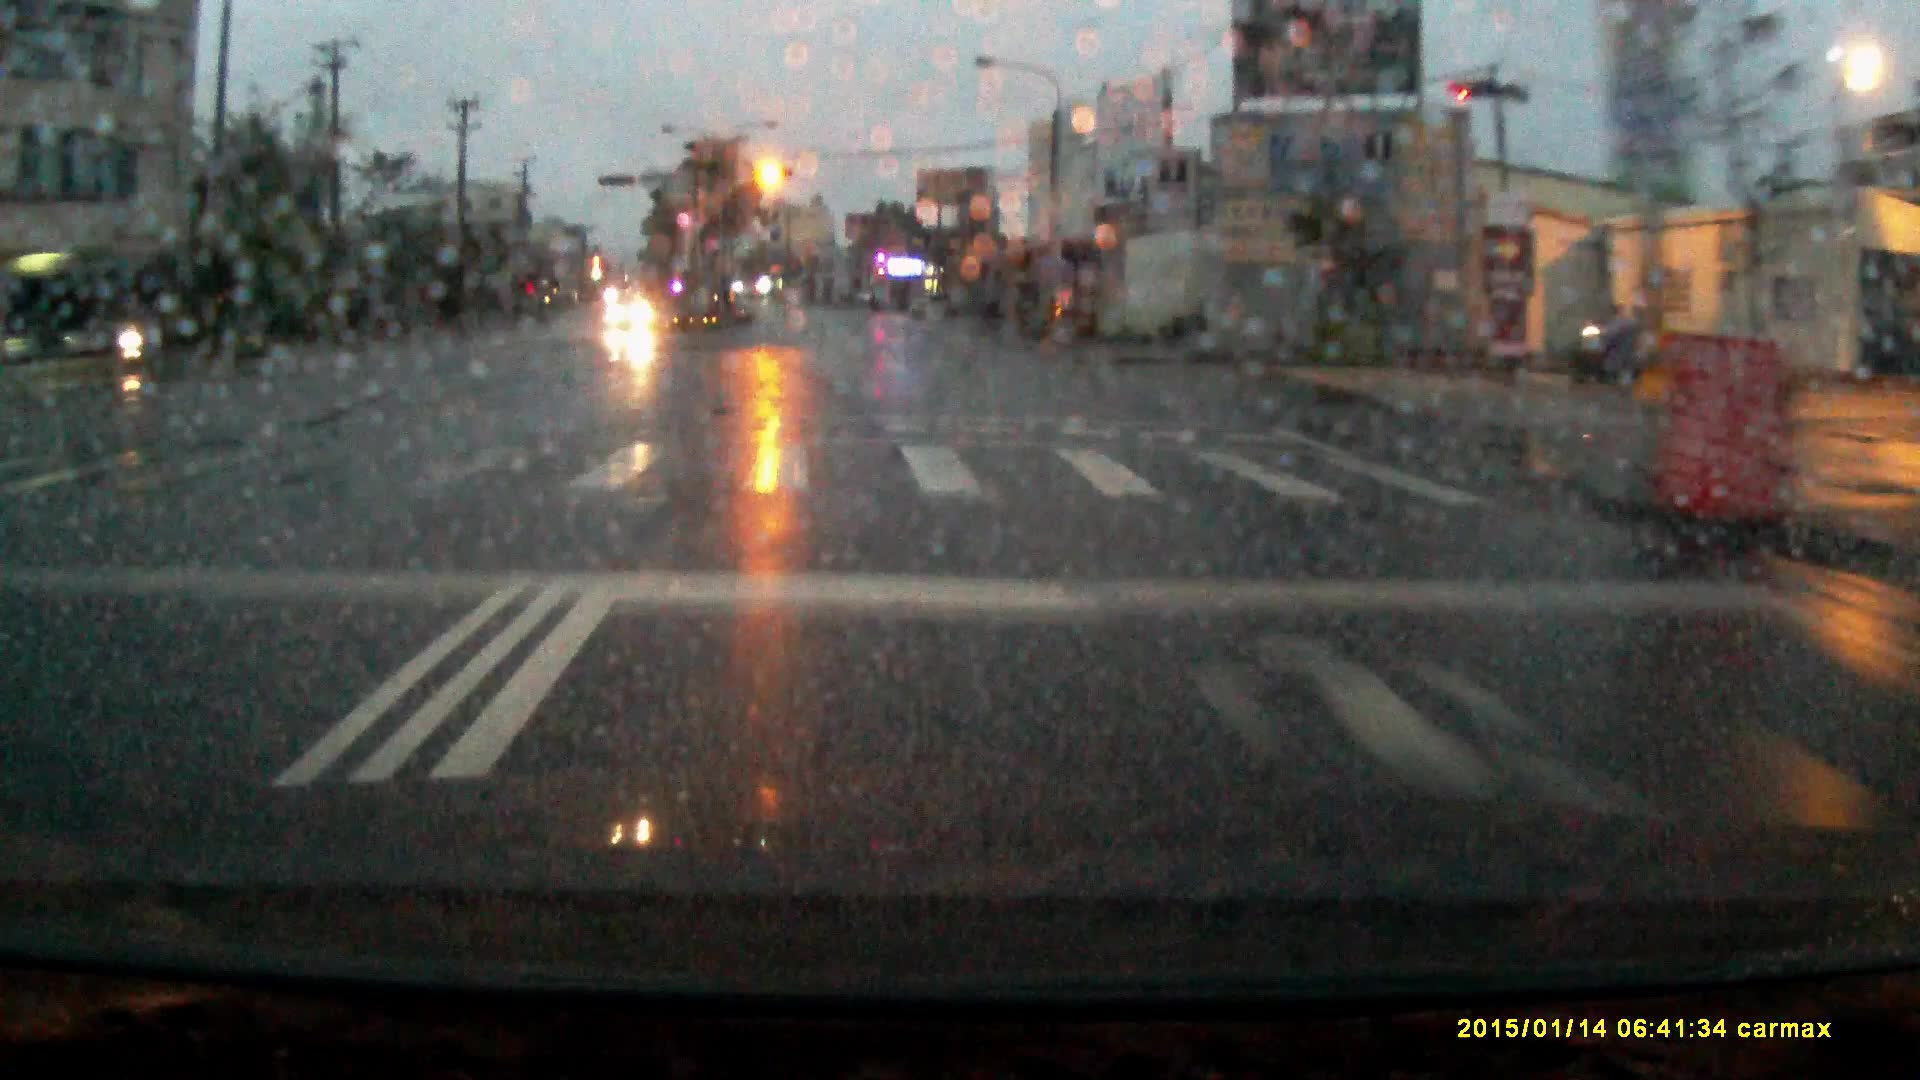rider: (1579, 292, 1654, 384), (111, 300, 158, 378)
vehicle: (607, 295, 659, 336)
